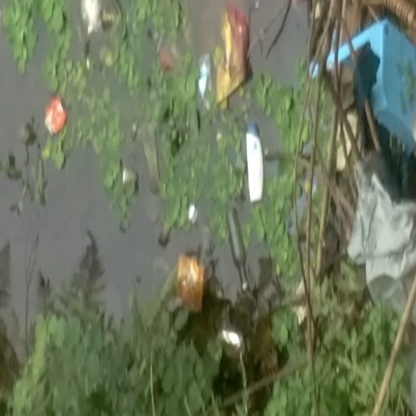bottle: (219, 207, 255, 289)
plastic-bag: (211, 1, 258, 103)
